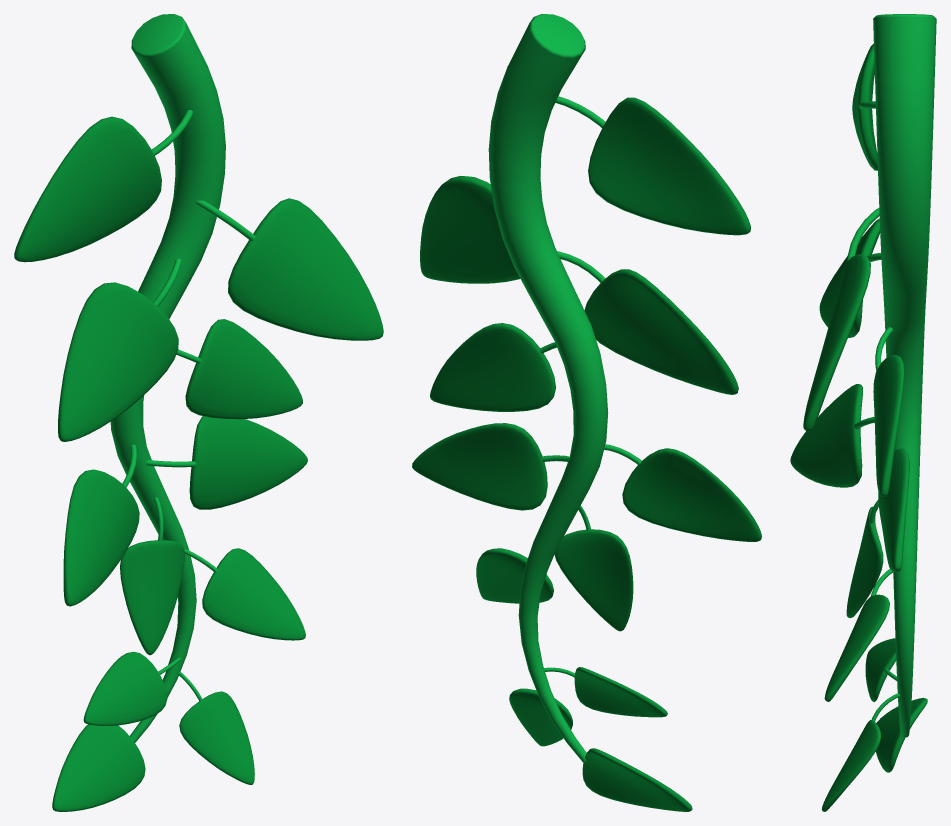
Rendered from Town_20_Ivy_4.glb.
3 renders of one model, left to right at view 1: azimuth 30°, elevation 25°; view 2: azimuth 150°, elevation 25°; view 3: azimuth 270°, elevation 25°, orthographic. The views are drawn at different scales.
Visible parts, largest first — view 1: Town_20_Ivy_4; view 2: Town_20_Ivy_4; view 3: Town_20_Ivy_4.
Boxes of the visible parts, x1,y1,x2,y2 form: Town_20_Ivy_4: (14,14,383,811); Town_20_Ivy_4: (412,14,761,811); Town_20_Ivy_4: (790,14,936,811).
Bounding box in the file's own units: 1.3 × 2.73 × 0.4592.
Materials: 1 (1 with a texture image).
